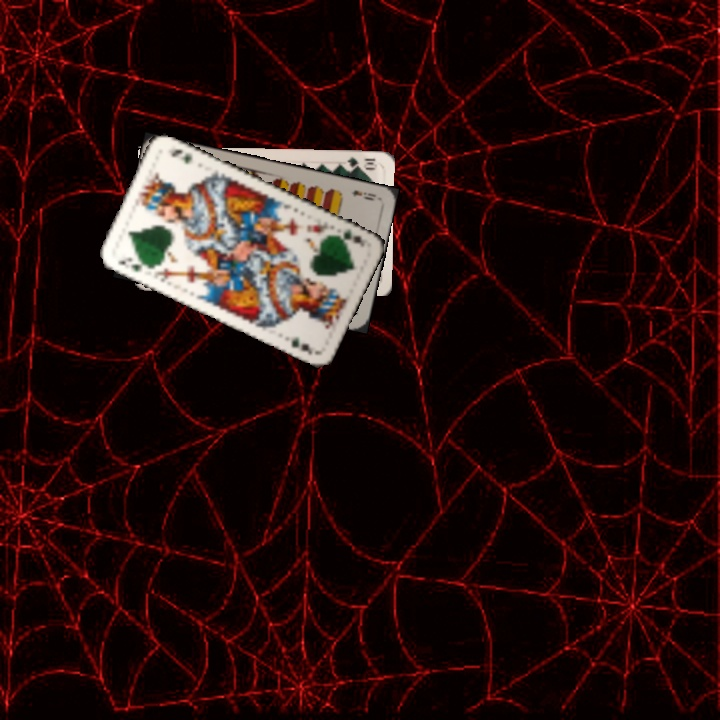E9: (347, 186, 379, 203)
G10: (343, 152, 378, 172)
GK: (329, 225, 369, 250), (113, 253, 150, 275)
